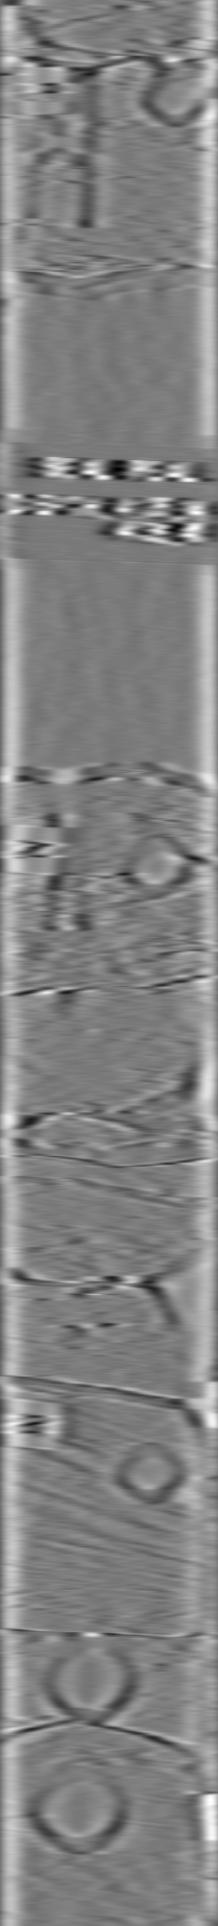hplug: (110, 1432, 184, 1510), (138, 60, 212, 131), (122, 824, 190, 900)
scal: (30, 1760, 126, 1858), (42, 1636, 135, 1728)
vplug: (28, 58, 103, 226), (32, 782, 99, 934)
